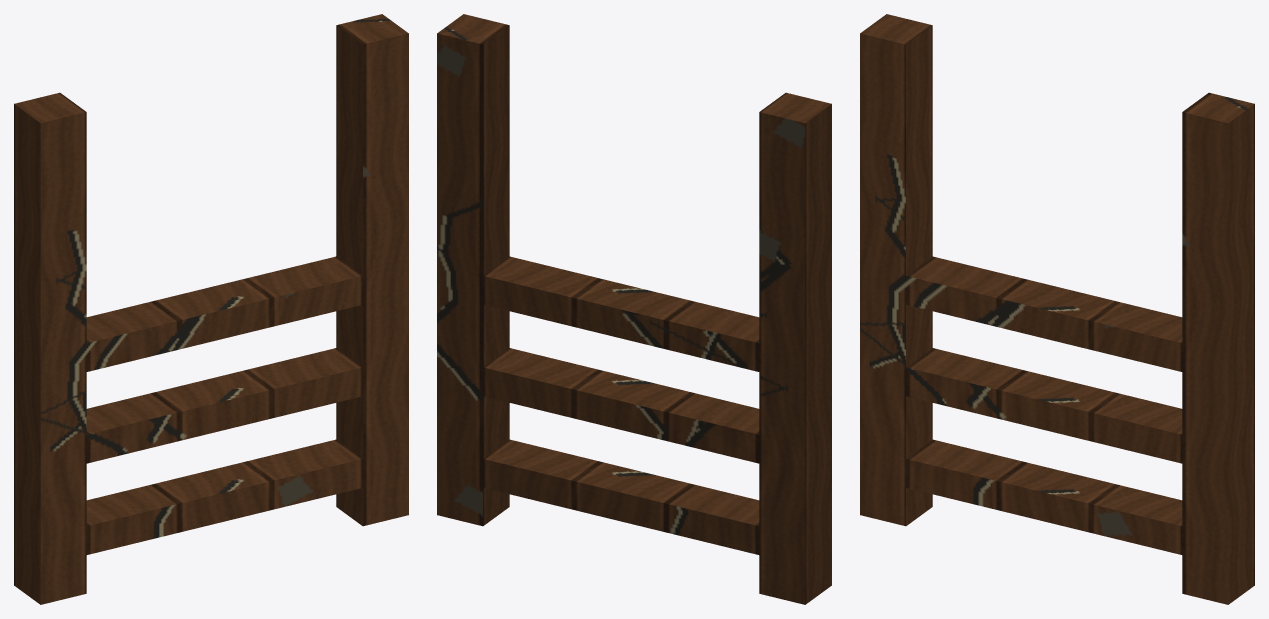
The model's file is ladder_z2.glb.
The picture shows the model from 3 angles, left to right: view 1: azimuth 30°, elevation 25°; view 2: azimuth 150°, elevation 25°; view 3: azimuth 330°, elevation 25°; orthographic projection.
Visible parts, largest first — view 1: ladder_z2; view 2: ladder_z2; view 3: ladder_z2.
Part boxes in pixels (x1=…): ladder_z2: x1=14, y1=14, x2=408, y2=604; ladder_z2: x1=437, y1=14, x2=831, y2=604; ladder_z2: x1=860, y1=14, x2=1254, y2=604.
Size of the model in its own units: 0.8 by 1 by 0.1.
1 material, 1 textured.
